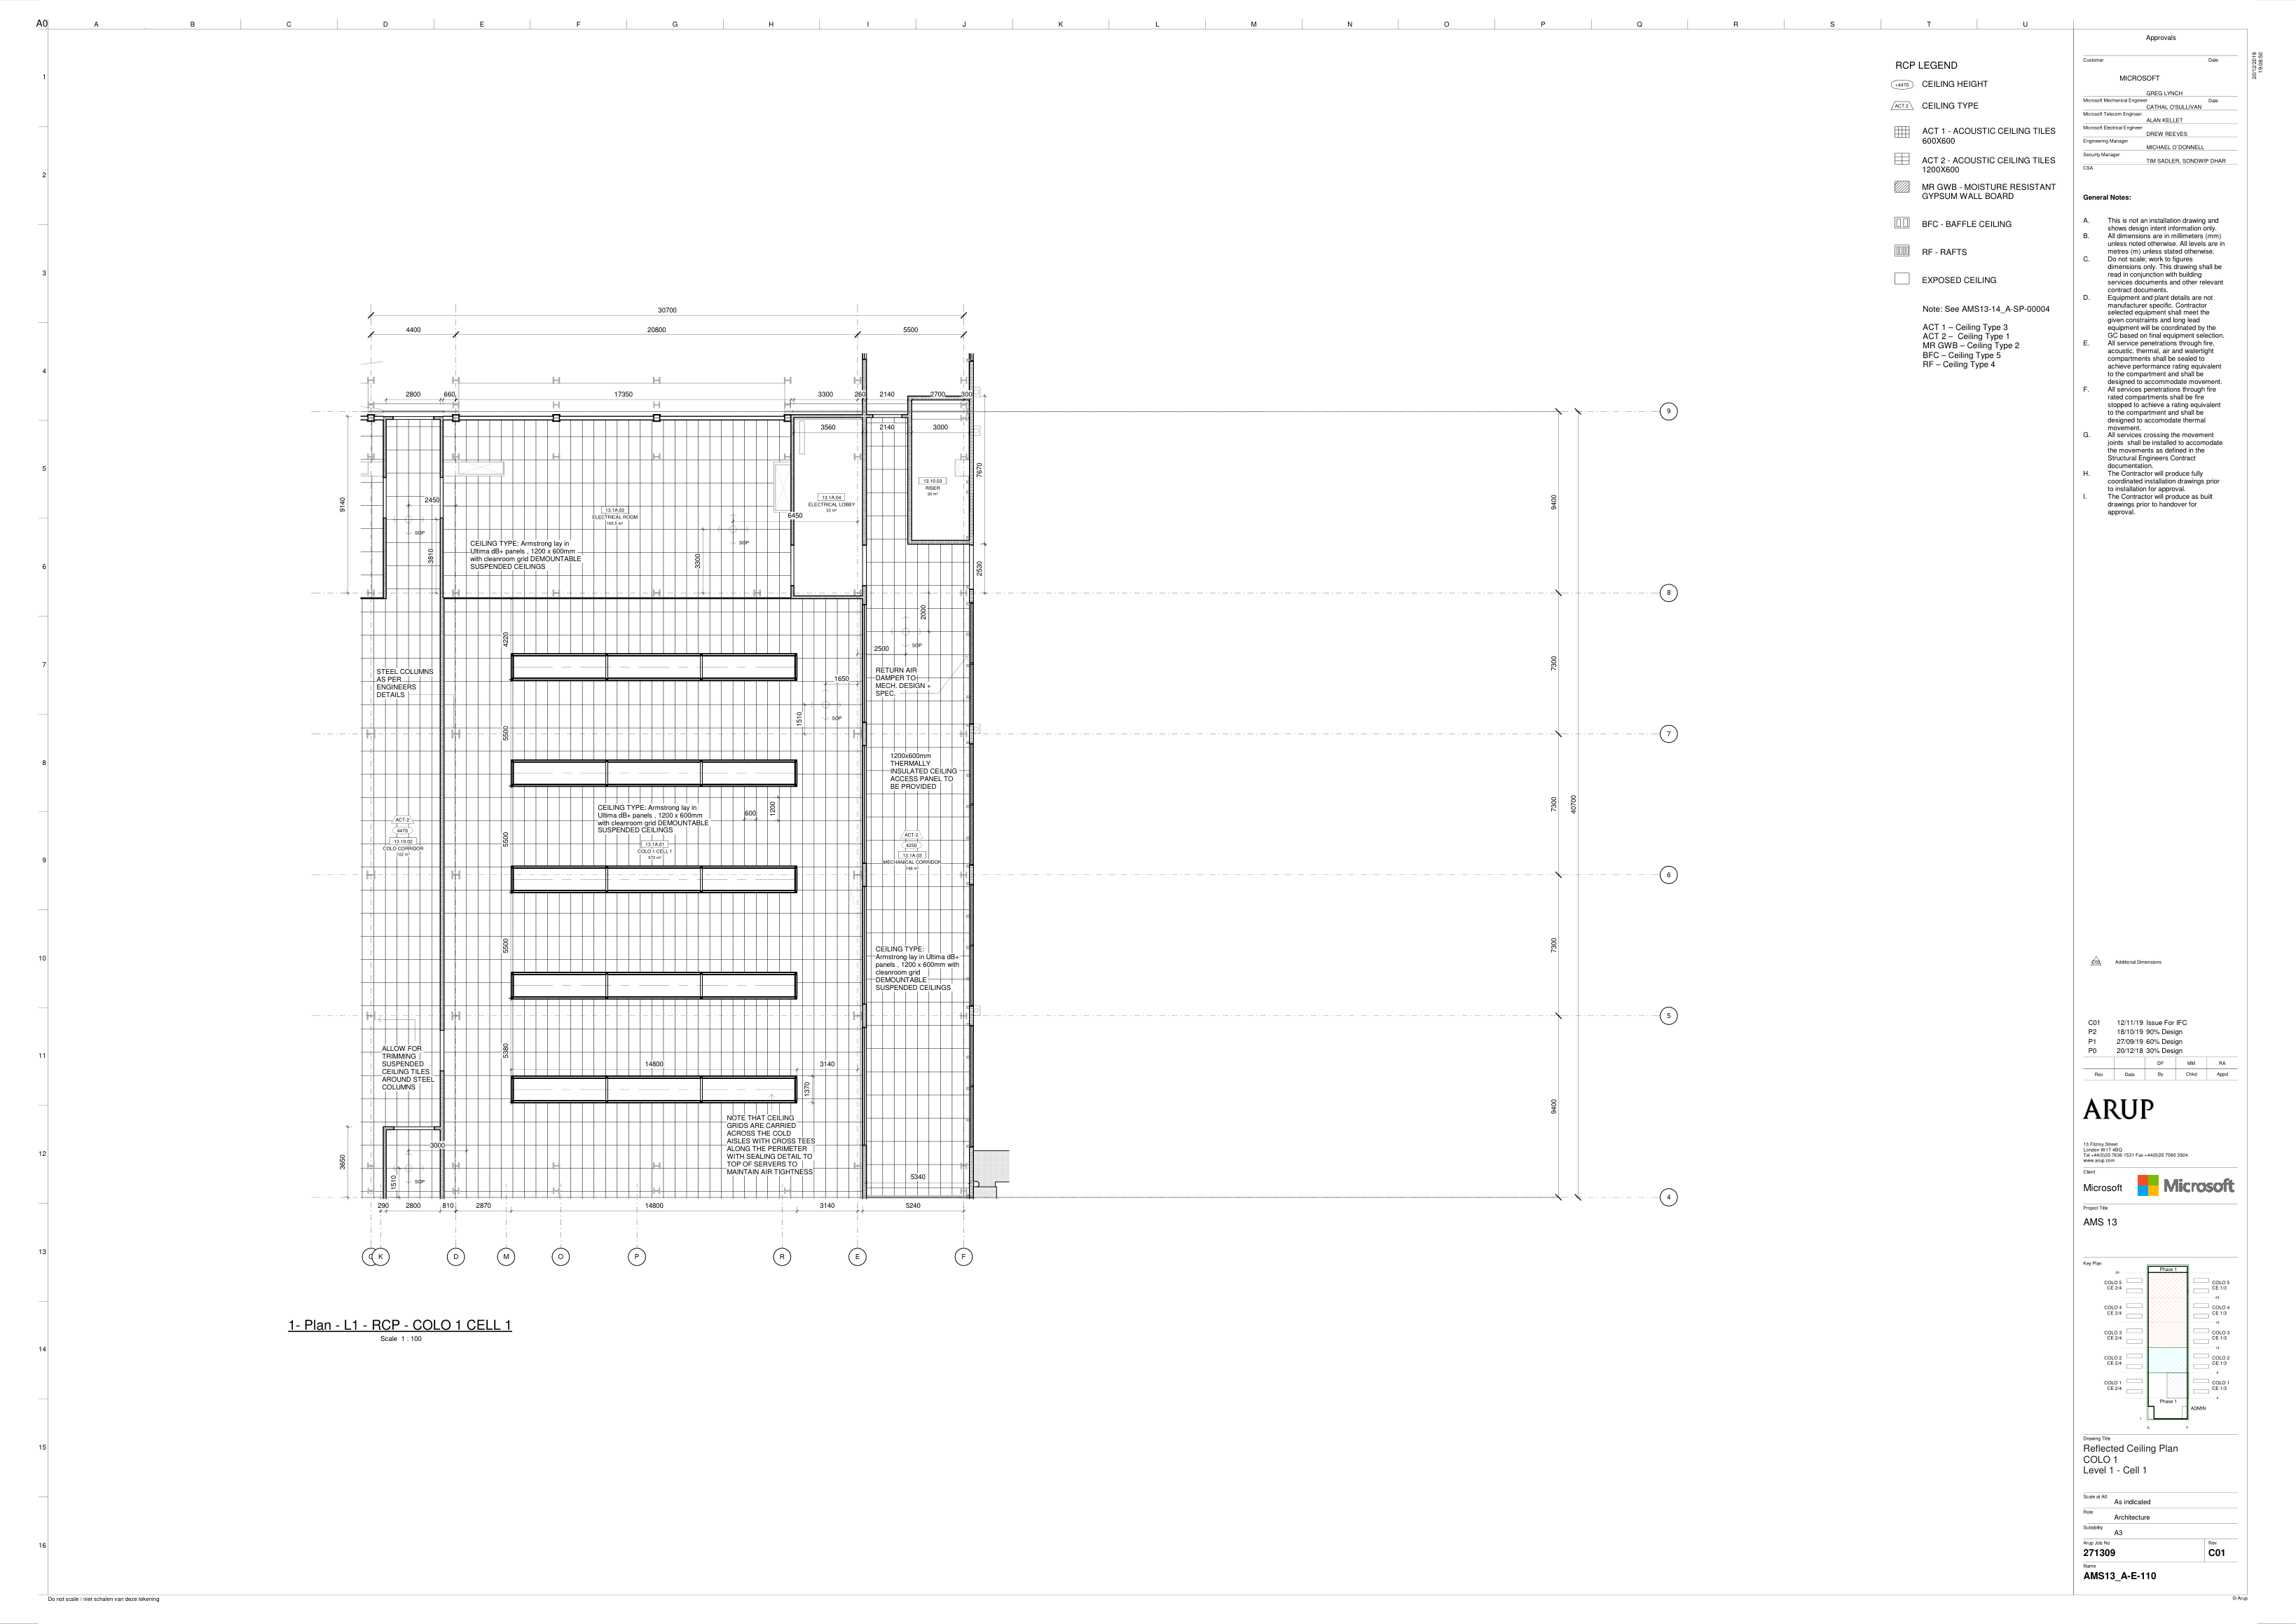Legend: (1886, 55, 2059, 371)
